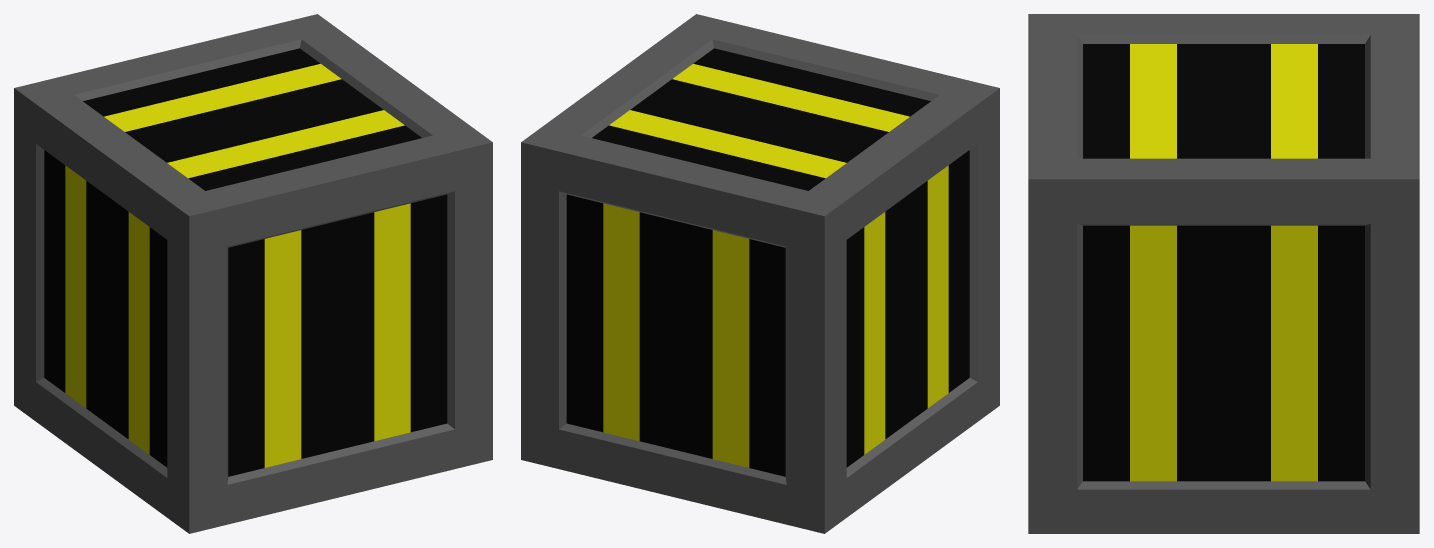
File: Crate.fbx
3 renders of one model, left to right at view 1: azimuth 30°, elevation 25°; view 2: azimuth 150°, elevation 25°; view 3: azimuth 270°, elevation 25°, orthographic. The views are drawn at different scales.
Parts seen in each view (by area): view 1: Cube; view 2: Cube; view 3: Cube.
Part boxes in pixels (x1,y1,x2,y2): Cube: (14,14,492,533); Cube: (521,14,999,533); Cube: (1028,14,1419,533).
Bounding box in the file's own units: 200 × 200 × 200.
